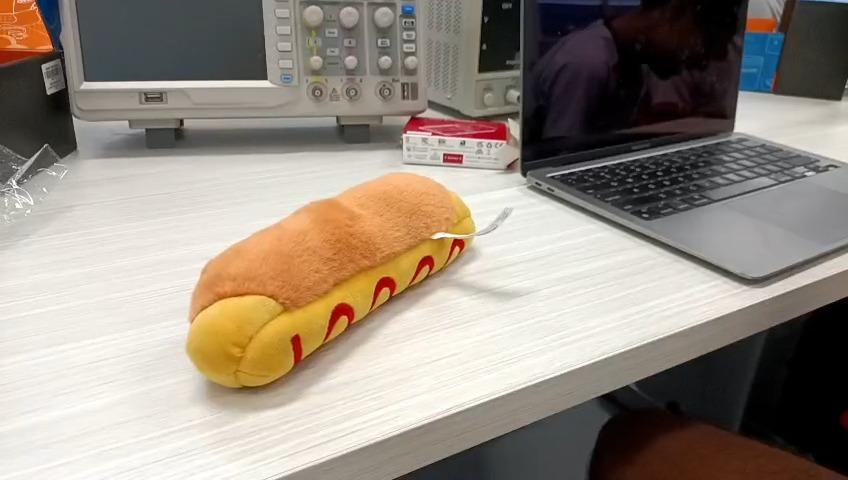hotdog: (186, 172, 475, 389)
